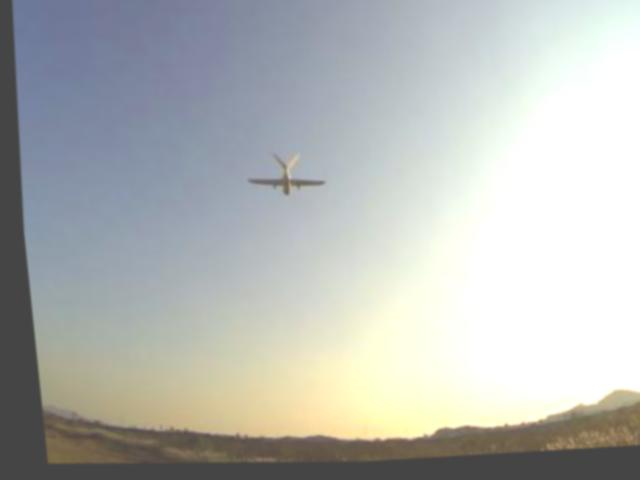uav: (231, 146, 333, 209)
